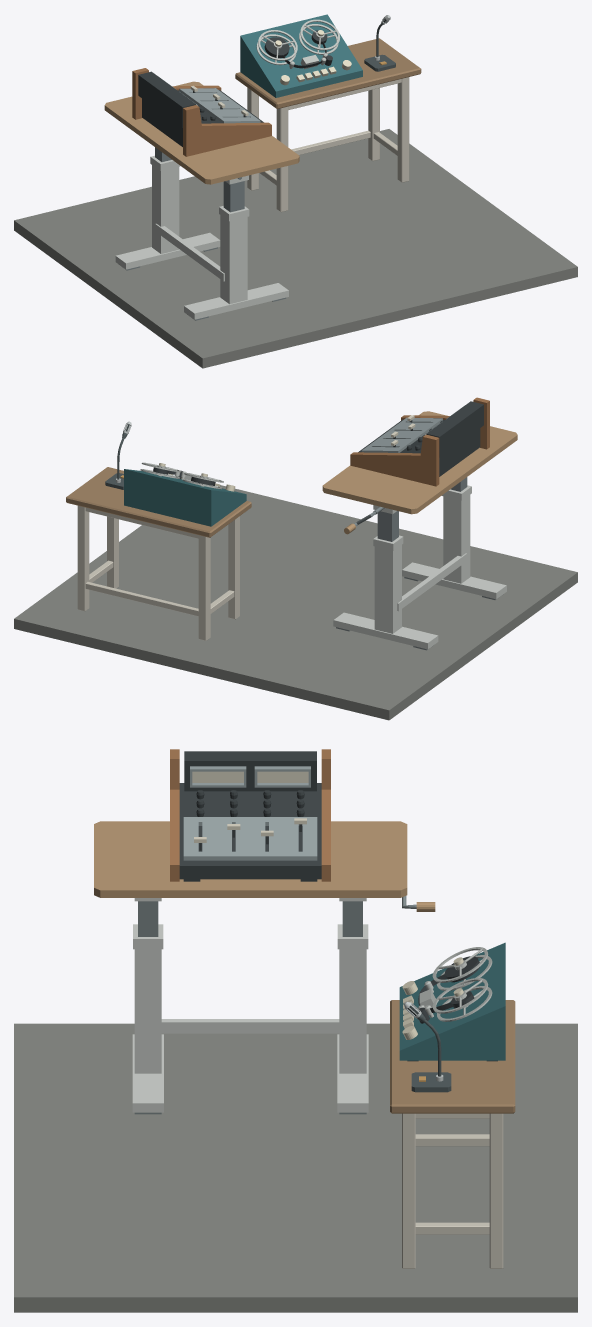
The picture shows the model from 3 angles, top to bottom: view 1: azimuth 30°, elevation 25°; view 2: azimuth 150°, elevation 25°; view 3: azimuth 270°, elevation 25°; orthographic projection. The views are drawn at different scales.
Visible parts, largest first — view 1: SceneOnlyAudioRecordingFloor, WholeLevelWritingTop, WholeInclinedMachineCase, Complete work surface, WholeTimberSideCheek_-1, WholeOpenUpperOuterColumn_-1, WholeOpenUpperOuterColumn_1, WholeRaisedRearMeterBridge, WholeLongTGroundFoot_-1, WholeFourSlotFaderFaceplate, Worktable leg.002, WholeLongTGroundFoot_1 (+9 smaller); view 2: SceneOnlyAudioRecordingFloor, WholeLevelWritingTop, WholeInclinedMachineCase, Complete work surface, WholeTimberSideCheek_1, WholeOpenUpperOuterColumn_1, WholeOpenUpperOuterColumn_-1, WholeRaisedRearMeterBridge, WholeLongTGroundFoot_1, Worktable leg.001, WholeFourSlotFaderFaceplate, WholeLongTGroundFoot_-1 (+9 smaller); view 3: SceneOnlyAudioRecordingFloor, WholeLevelWritingTop, Complete work surface, WholeInclinedMachineCase, WholeInclinedConsoleCase, WholeFourSlotFaderFaceplate, WholeOpenUpperOuterColumn_-1, WholeOpenUpperOuterColumn_1, WholeRaisedRearMeterBridge, WholeLowerRearCrossTie, Worktable leg.003, Worktable leg.002 (+10 smaller).
Boxes of the visible parts, bbox=[...] form: SceneOnlyAudioRecordingFloor: bbox=[14, 129, 577, 368]; WholeLevelWritingTop: bbox=[104, 81, 299, 184]; WholeInclinedMachineCase: bbox=[240, 14, 362, 97]; Complete work surface: bbox=[235, 38, 421, 108]; WholeTimberSideCheek_-1: bbox=[183, 105, 271, 156]; WholeOpenUpperOuterColumn_-1: bbox=[220, 215, 247, 304]; WholeOpenUpperOuterColumn_1: bbox=[152, 165, 179, 253]; WholeRaisedRearMeterBridge: bbox=[138, 71, 195, 127]; WholeLongTGroundFoot_-1: bbox=[184, 283, 288, 319]; WholeFourSlotFaderFaceplate: bbox=[179, 88, 260, 123]; Worktable leg.002: bbox=[397, 77, 409, 182]; WholeLongTGroundFoot_1: bbox=[115, 232, 220, 269]; SceneOnlyAudioRecordingFloor: bbox=[14, 485, 577, 720]; WholeLevelWritingTop: bbox=[322, 411, 517, 514]; WholeInclinedMachineCase: bbox=[124, 469, 246, 526]; Complete work surface: bbox=[66, 467, 251, 537]; WholeTimberSideCheek_1: bbox=[350, 434, 439, 486]; WholeOpenUpperOuterColumn_1: bbox=[374, 545, 401, 633]; WholeOpenUpperOuterColumn_-1: bbox=[443, 495, 470, 583]; WholeRaisedRearMeterBridge: bbox=[426, 401, 483, 457]; WholeLongTGroundFoot_1: bbox=[333, 612, 438, 649]; Worktable leg.001: bbox=[198, 535, 210, 640]; WholeFourSlotFaderFaceplate: bbox=[361, 417, 442, 452]; WholeLongTGroundFoot_-1: bbox=[402, 562, 506, 599]; SceneOnlyAudioRecordingFloor: bbox=[14, 1023, 577, 1312]; WholeLevelWritingTop: bbox=[94, 821, 407, 897]; Complete work surface: bbox=[390, 1000, 515, 1113]; WholeInclinedMachineCase: bbox=[399, 942, 505, 1060]; WholeInclinedConsoleCase: bbox=[179, 783, 321, 879]; WholeFourSlotFaderFaceplate: bbox=[183, 817, 317, 860]; WholeOpenUpperOuterColumn_-1: bbox=[134, 949, 161, 1073]; WholeOpenUpperOuterColumn_1: bbox=[339, 949, 366, 1073]; WholeRaisedRearMeterBridge: bbox=[184, 751, 316, 791]; WholeLowerRearCrossTie: bbox=[161, 1019, 339, 1033]; Worktable leg.003: bbox=[489, 1113, 503, 1268]; Worktable leg.002: bbox=[402, 1113, 415, 1268].
Bounding box in the file's own units: 3.1 × 1.67 × 2.7.
